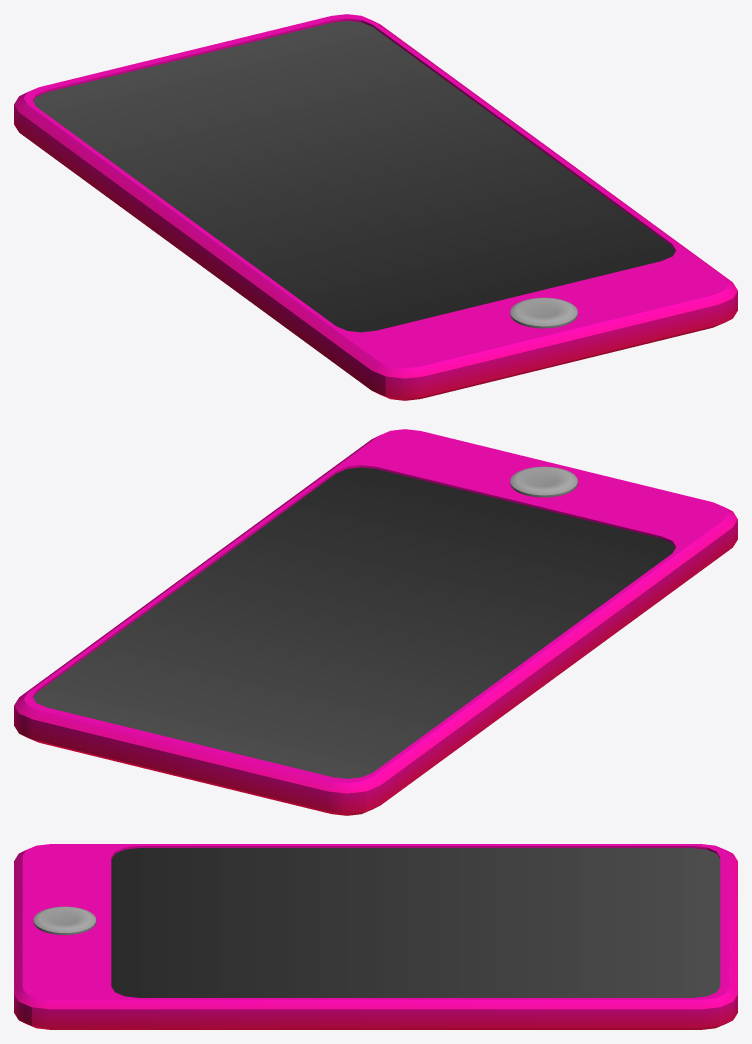
The model's file is SM_Movil.fbx.
3 views of the same model, one above another, from view 1: azimuth 30°, elevation 25°; view 2: azimuth 150°, elevation 25°; view 3: azimuth 270°, elevation 25° (orthographic). The views are drawn at different scales.
Parts seen in each view (by area): view 1: Movil; view 2: Movil; view 3: Movil.
Boxes of the visible parts, bbox=[...] form: Movil: bbox=[14, 14, 737, 400]; Movil: bbox=[14, 429, 737, 815]; Movil: bbox=[14, 844, 737, 1029].
Size of the model in its own units: 9.75 by 0.9523 by 18.28.
